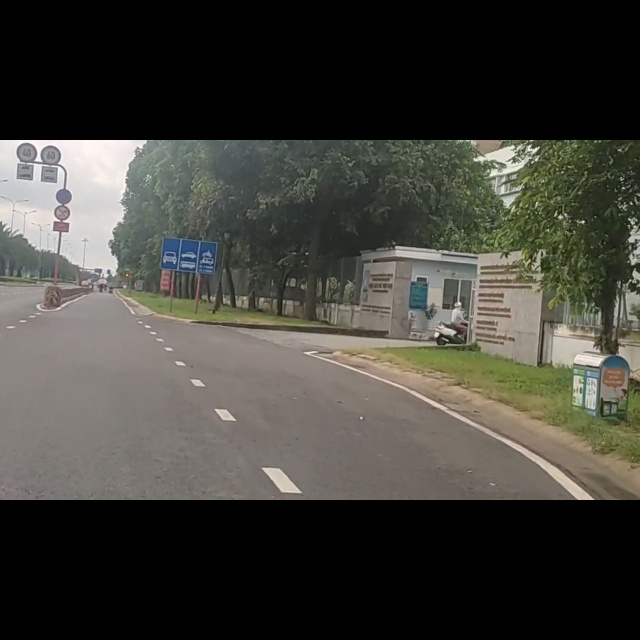bien_cam: (159, 168, 218, 241), (15, 5, 37, 39), (41, 9, 62, 43)
